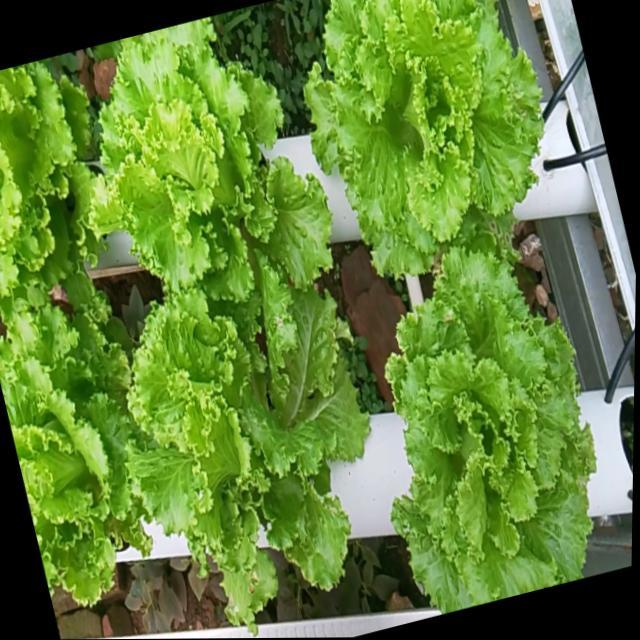Mature: (116, 300, 362, 638), (376, 244, 585, 617), (86, 21, 324, 337), (294, 0, 531, 285), (0, 322, 142, 625), (0, 61, 86, 322)
